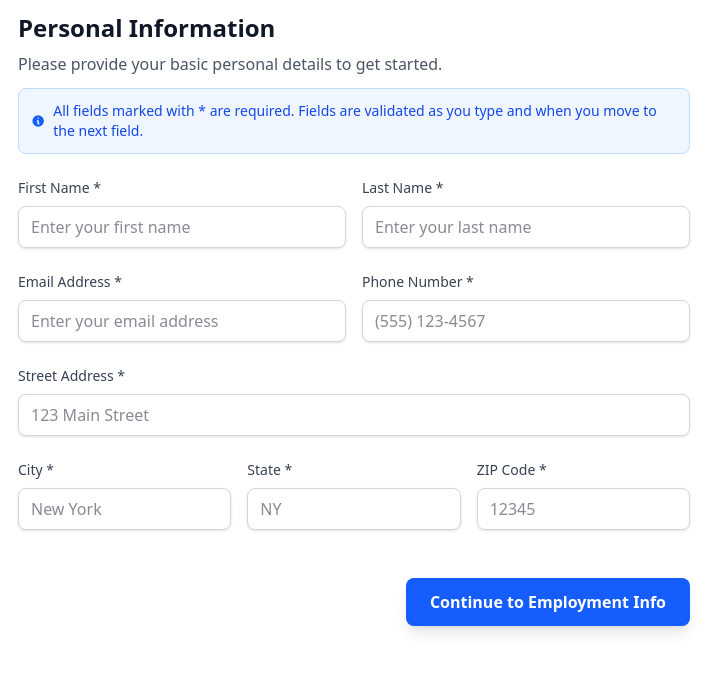
it: PersonalInfoForm Email Validation › shows validation error for empty email on blur
// Focus and then blur without entering anything
Click the field labelled "Email Address *": (182, 321) left=18, top=300, right=346, bottom=342
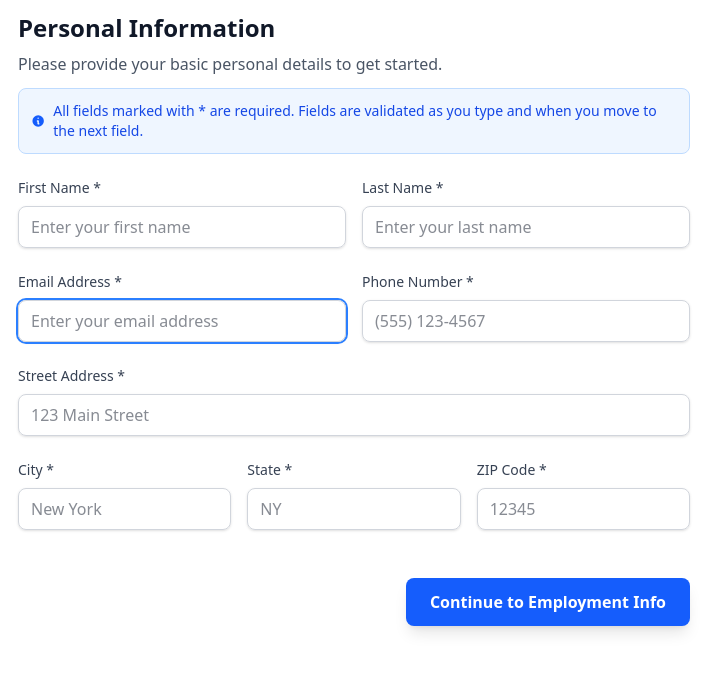
Press Tab
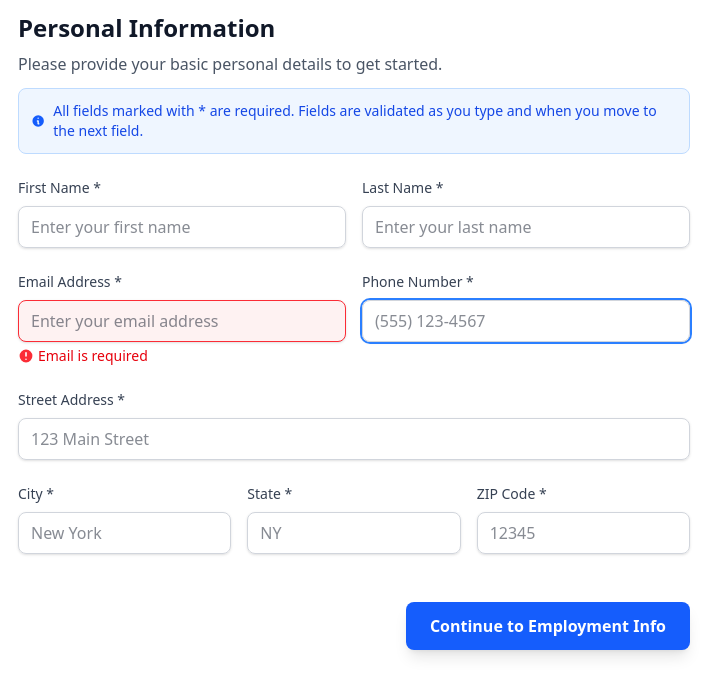
expect the text "Email is required" is shown: met, box left=38, top=346, right=148, bottom=366
